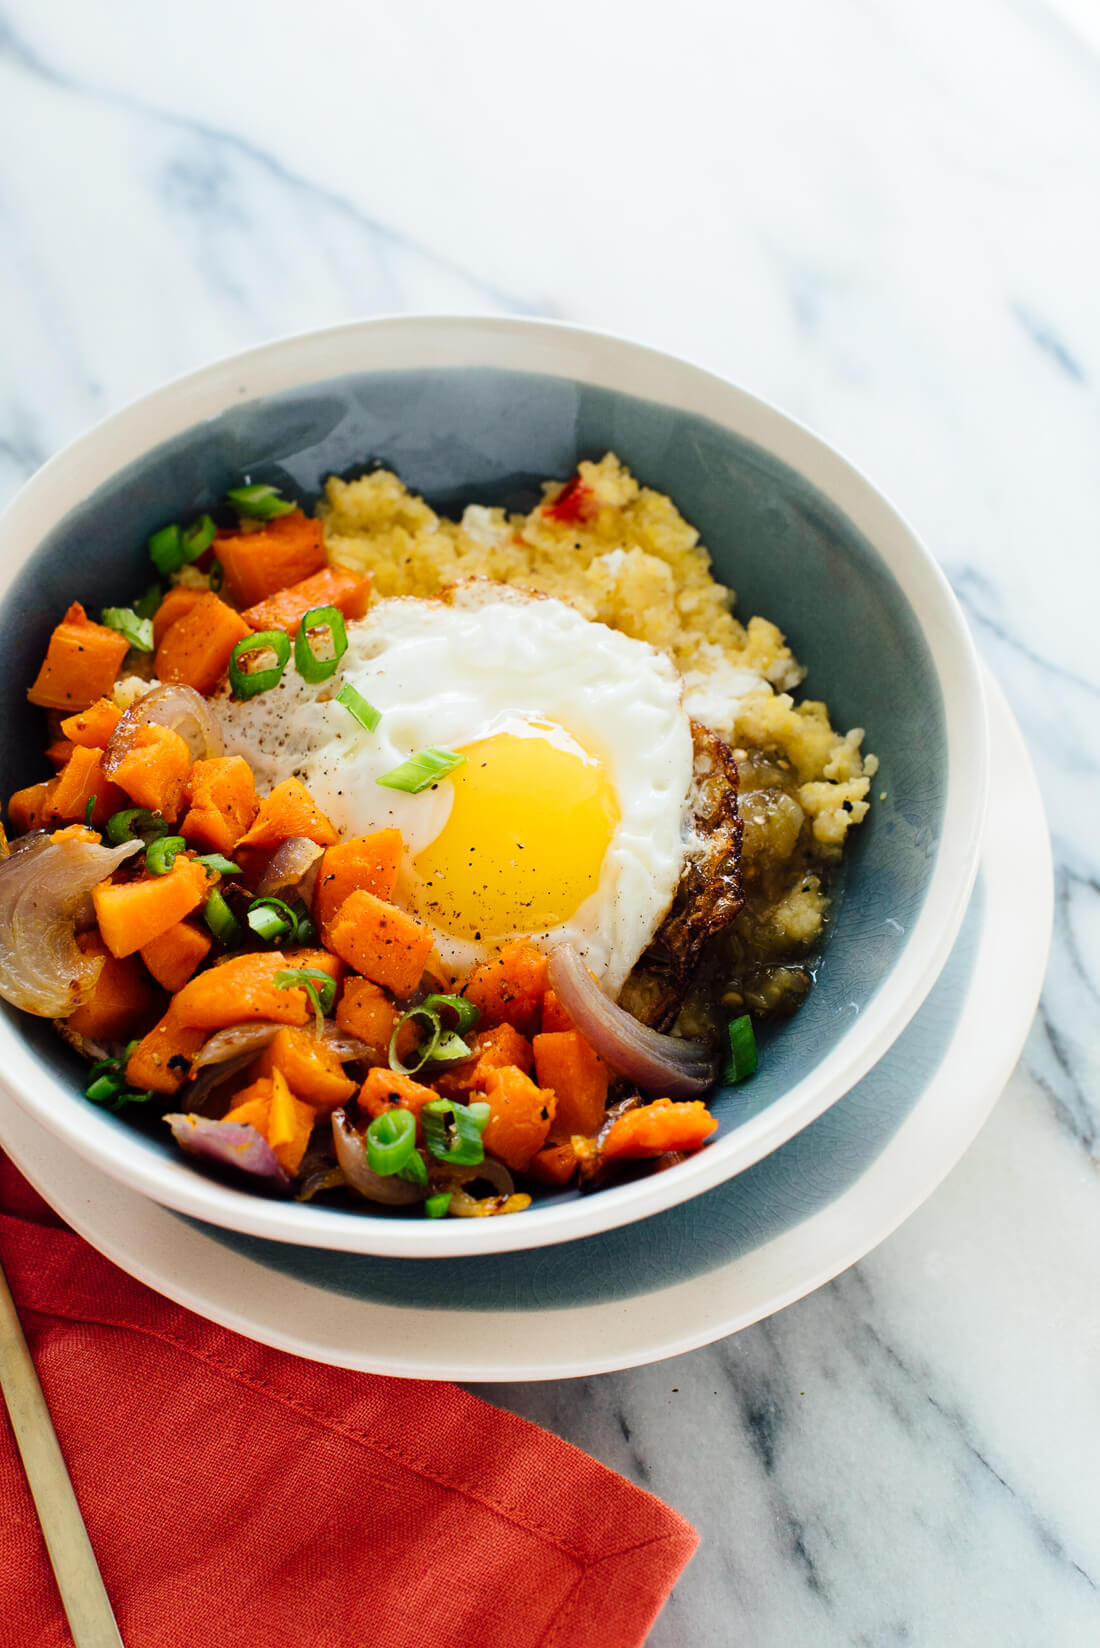fried egg: (280, 660, 663, 926)
